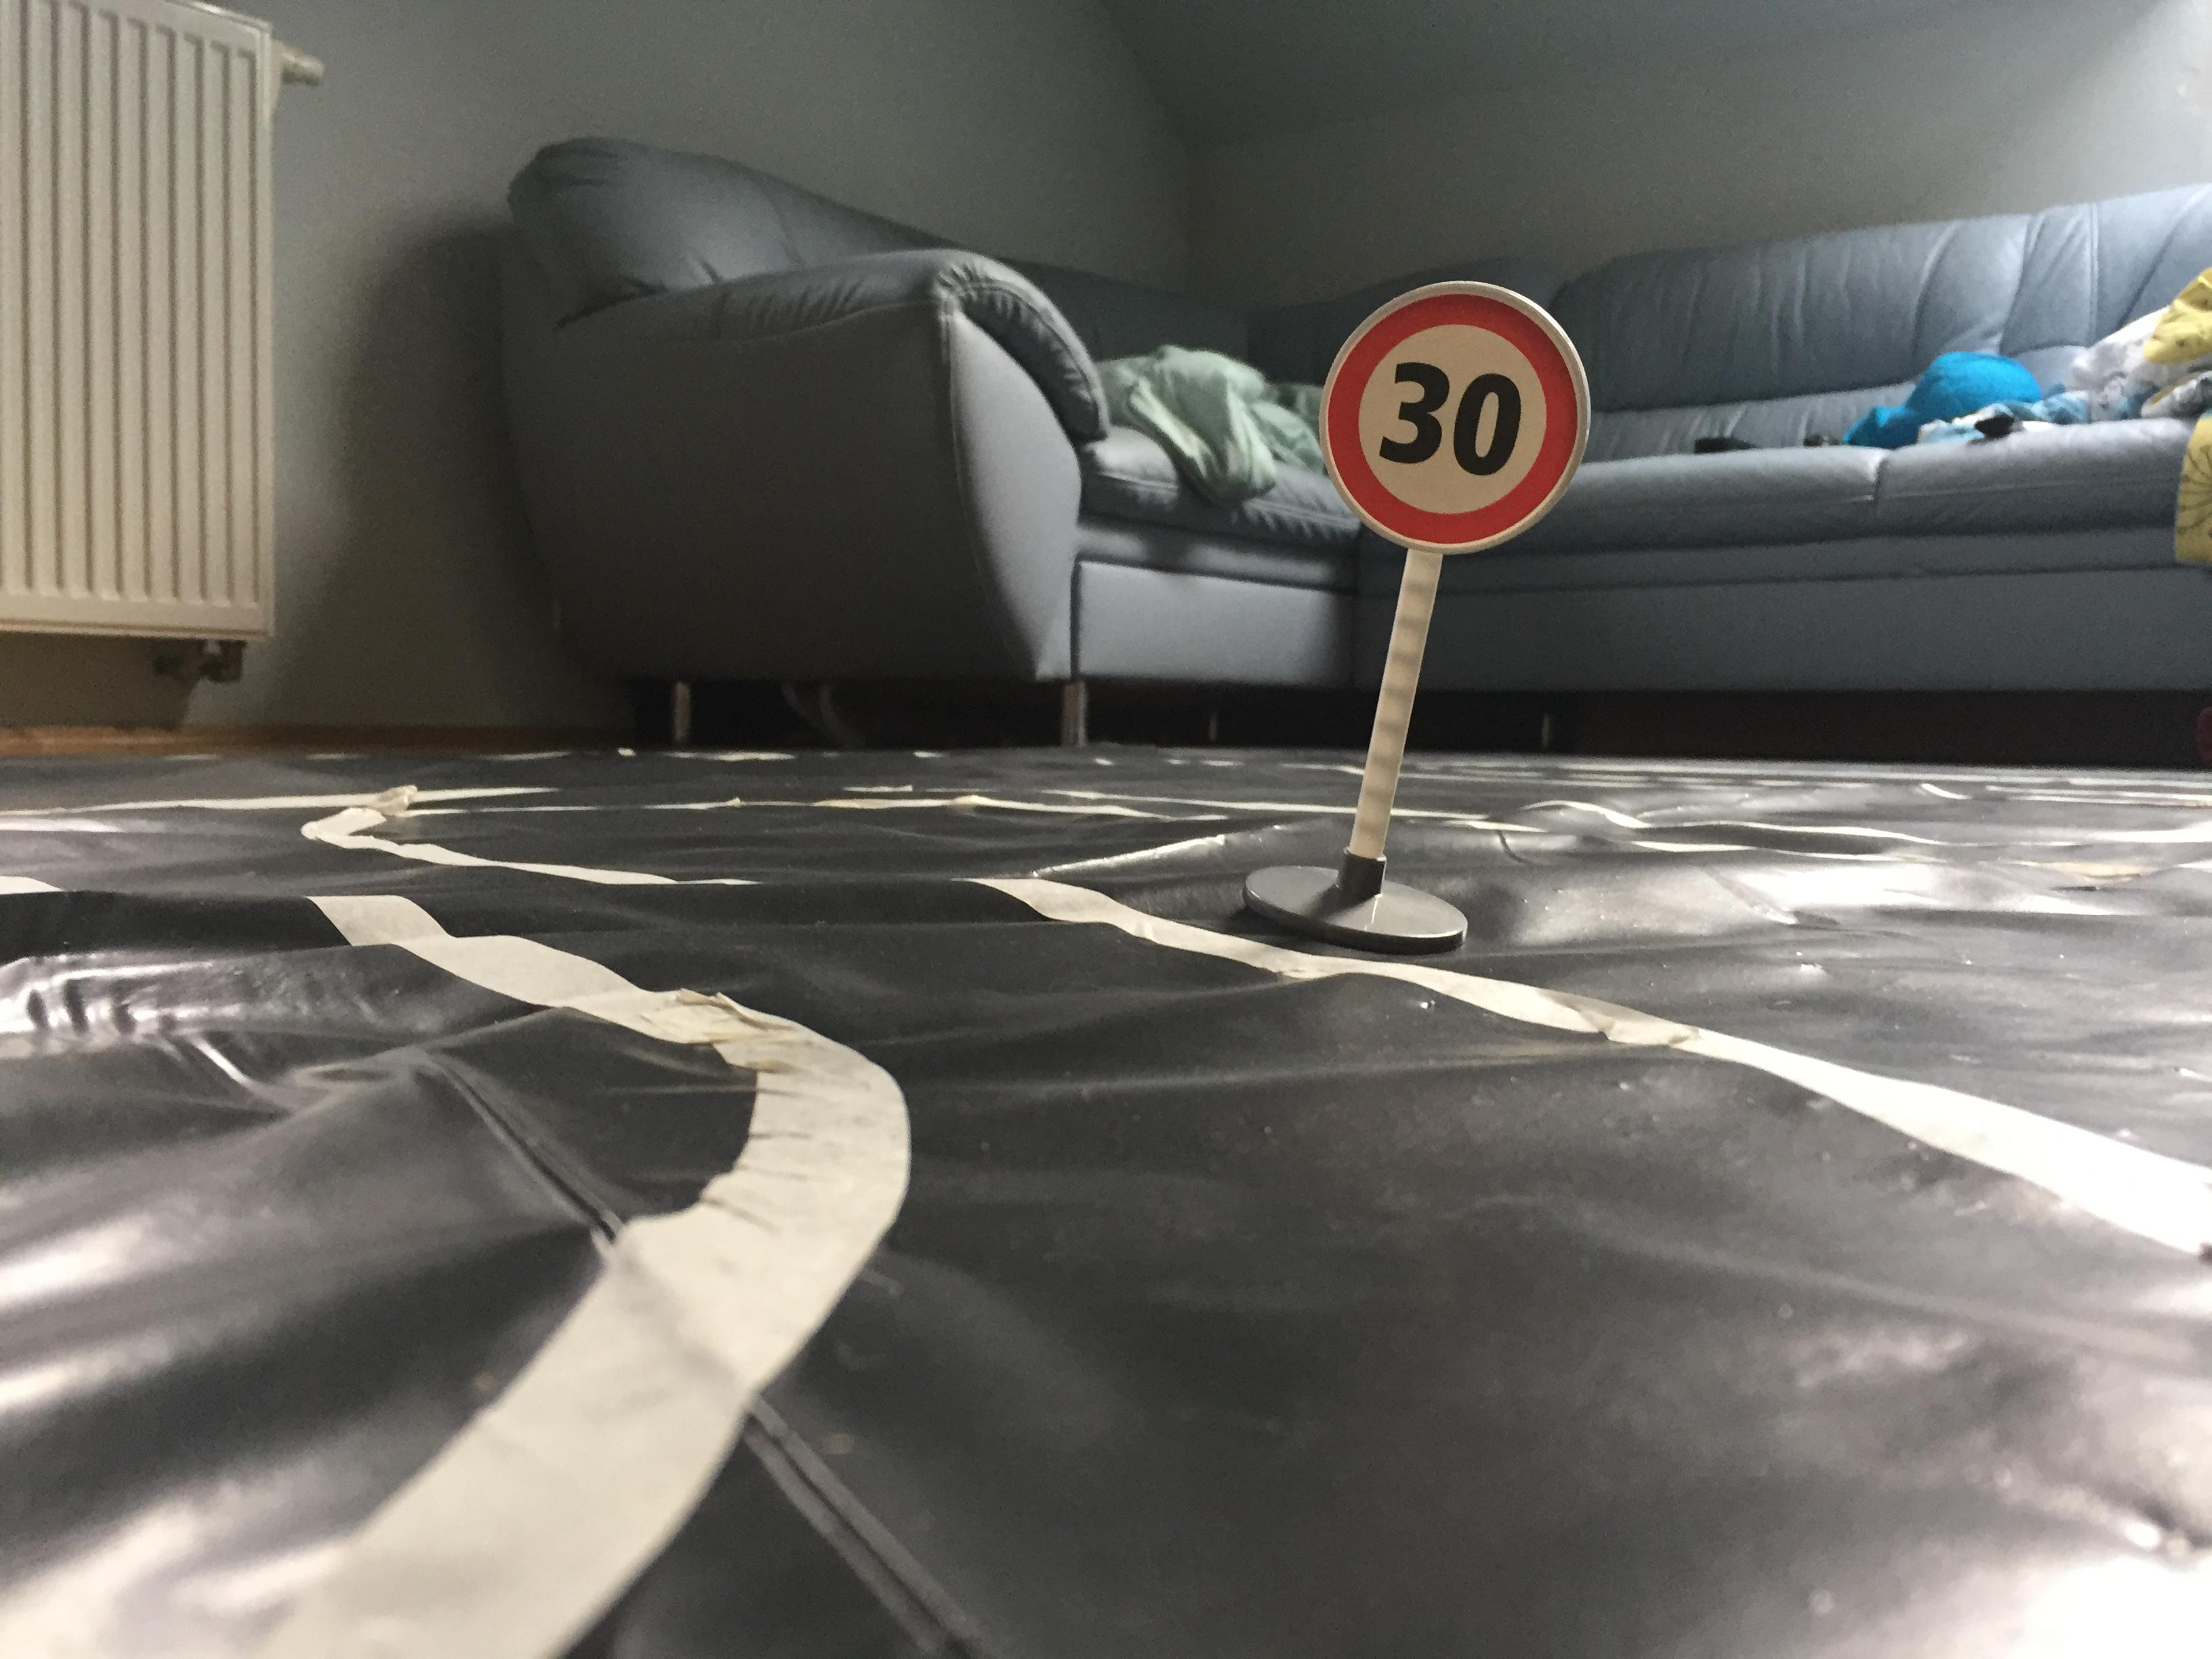speed: (1306, 268, 1609, 565)
